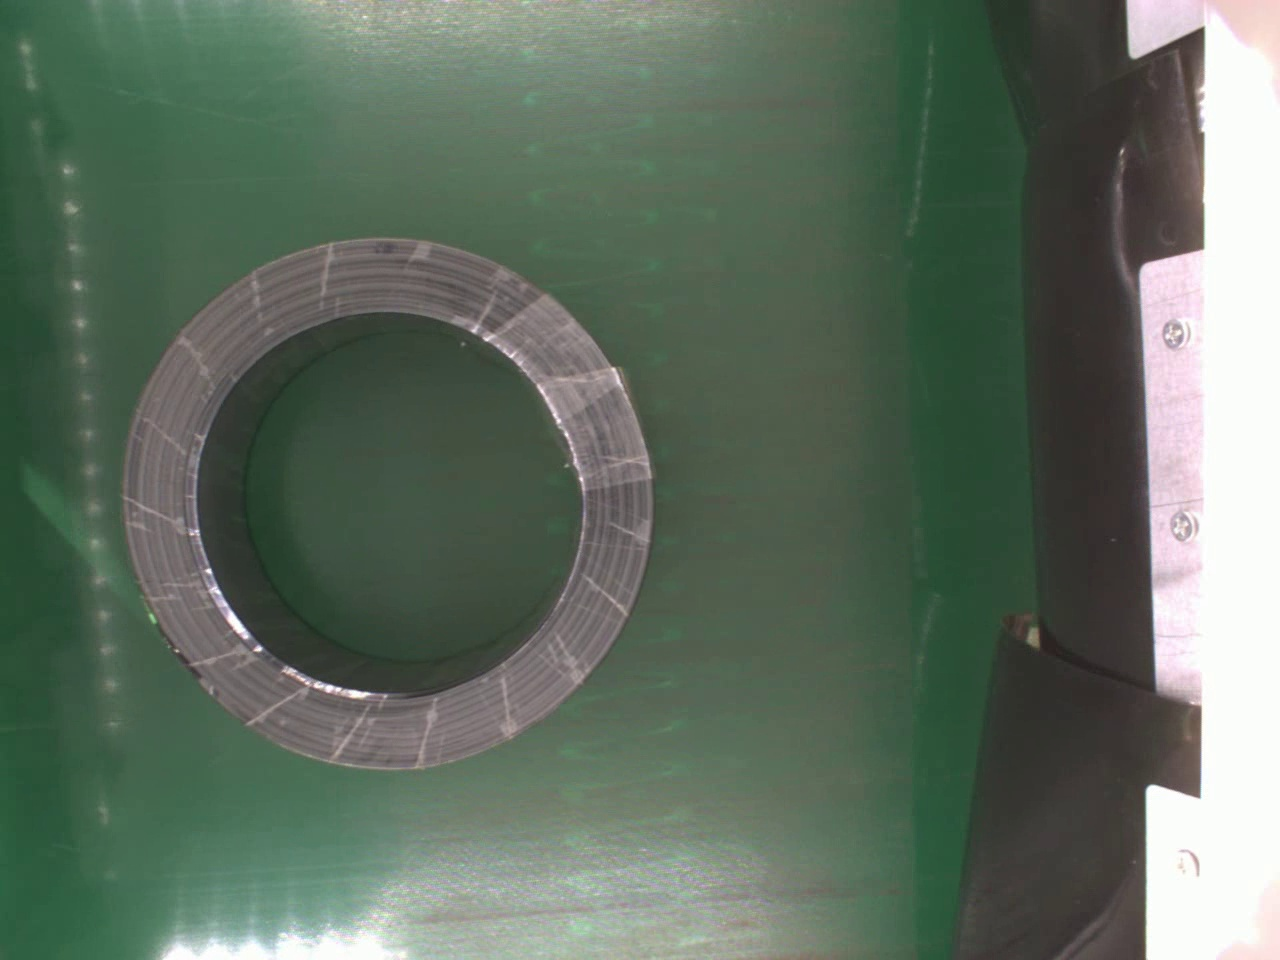black: (116, 232, 657, 772)
